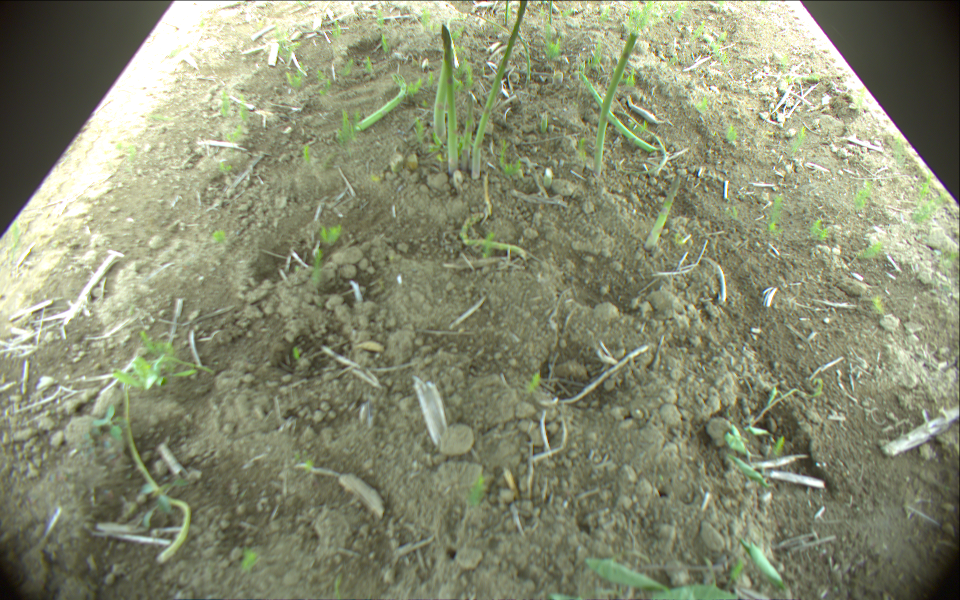aspa: (125, 383, 192, 564), (473, 1, 528, 179), (579, 71, 659, 150), (595, 31, 636, 178), (471, 12, 530, 79), (350, 72, 407, 133), (462, 205, 525, 258), (649, 170, 686, 251), (441, 24, 458, 182), (434, 55, 449, 143), (460, 91, 475, 175), (547, 1, 555, 26), (505, 1, 510, 24)
